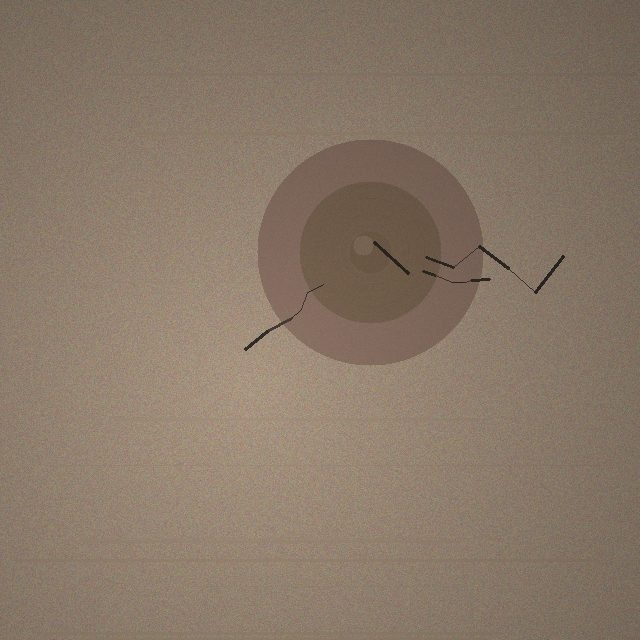crack: (257, 139, 483, 365)
